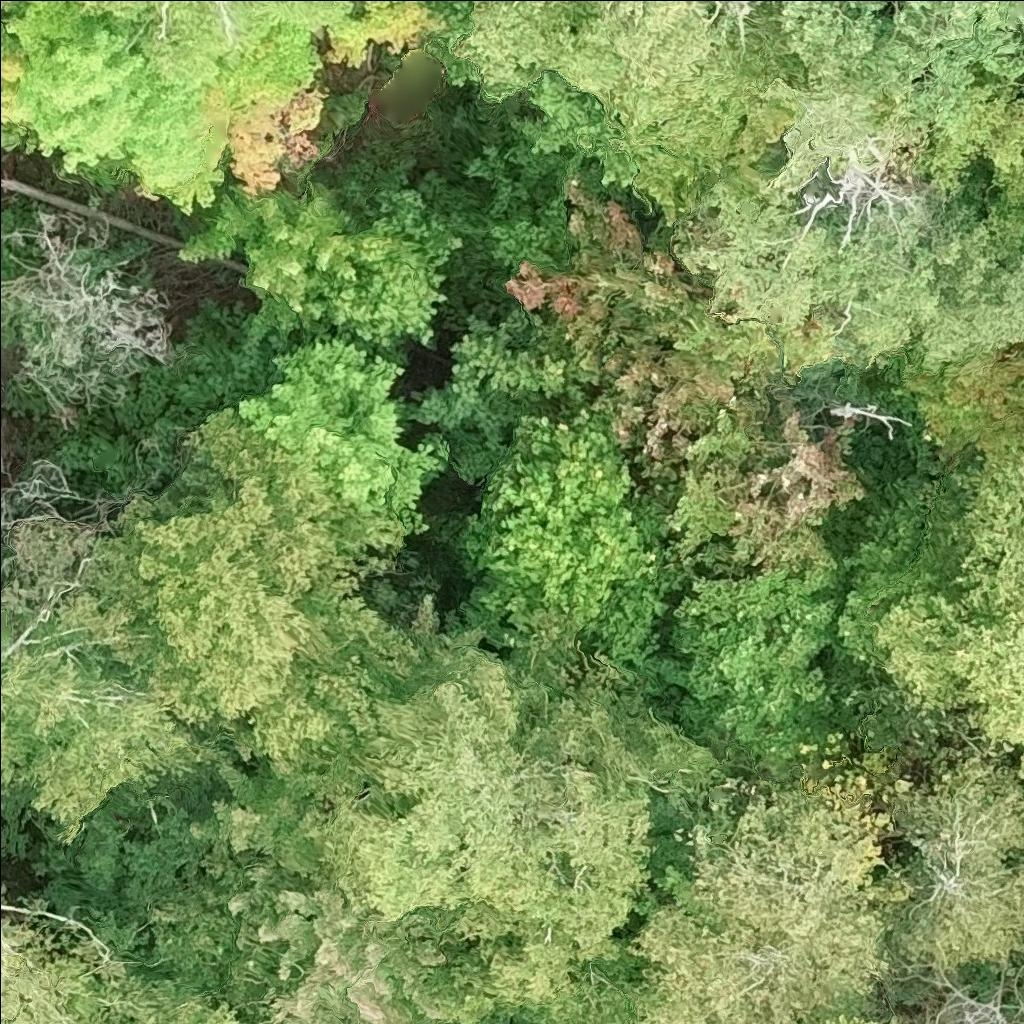crown: (303, 594, 718, 1023), (86, 411, 441, 769), (506, 179, 842, 523), (0, 0, 445, 214), (670, 85, 963, 369), (0, 519, 246, 844), (629, 776, 915, 1023), (465, 413, 688, 660), (179, 177, 463, 364), (606, 562, 846, 776), (140, 758, 339, 1012), (879, 449, 1023, 790), (239, 335, 451, 531), (665, 394, 868, 577), (394, 304, 602, 481), (450, 0, 720, 130), (781, 0, 1023, 131), (880, 753, 1023, 973), (228, 890, 464, 1023), (0, 892, 175, 1023), (86, 0, 356, 83), (915, 214, 1023, 370), (903, 345, 1023, 471), (907, 73, 1023, 201), (160, 975, 283, 1023), (831, 401, 912, 439), (805, 996, 892, 1023), (0, 533, 13, 581), (0, 0, 23, 15), (1008, 848, 1023, 859), (109, 1017, 131, 1023)
